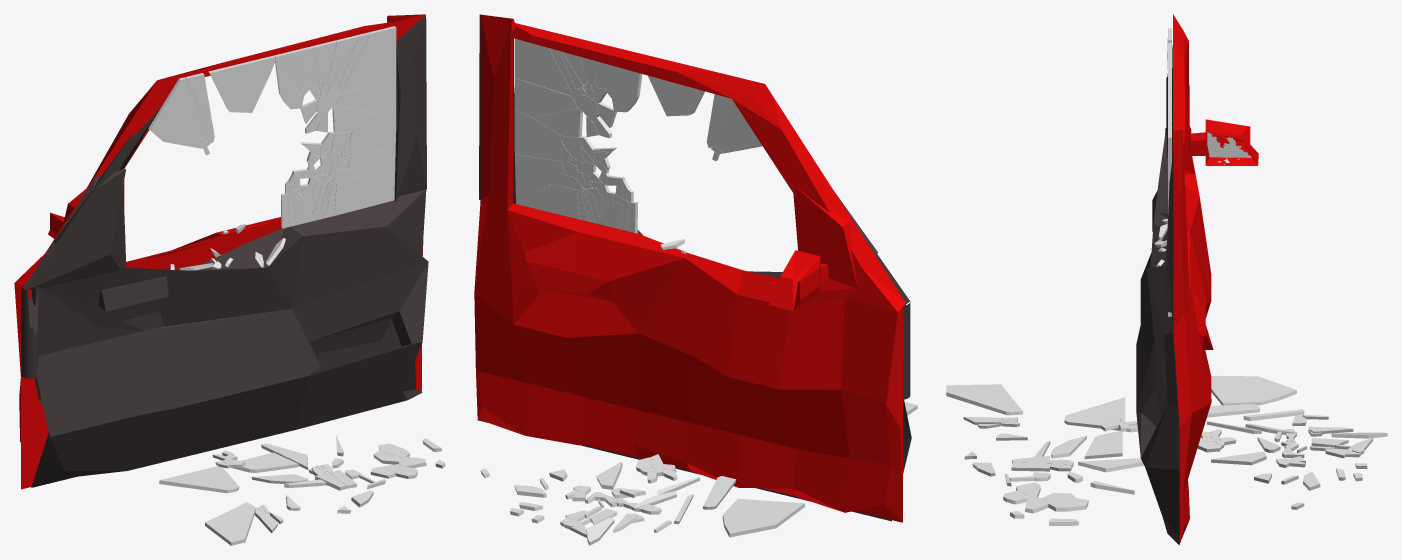
The picture shows the model from 3 angles, left to right: view 1: azimuth 30°, elevation 25°; view 2: azimuth 150°, elevation 25°; view 3: azimuth 270°, elevation 25°; orthographic projection. The views are drawn at different scales.
Visible parts, largest first — view 1: Cube.002; view 2: Cube.002; view 3: Cube.002.
Part boxes in pixels (box(x1,y1,x2,y2)): Cube.002: box(14, 14, 445, 545); Cube.002: box(474, 14, 917, 545); Cube.002: box(946, 14, 1387, 545).
Bounding box in the file's own units: 603 × 551 × 546.
